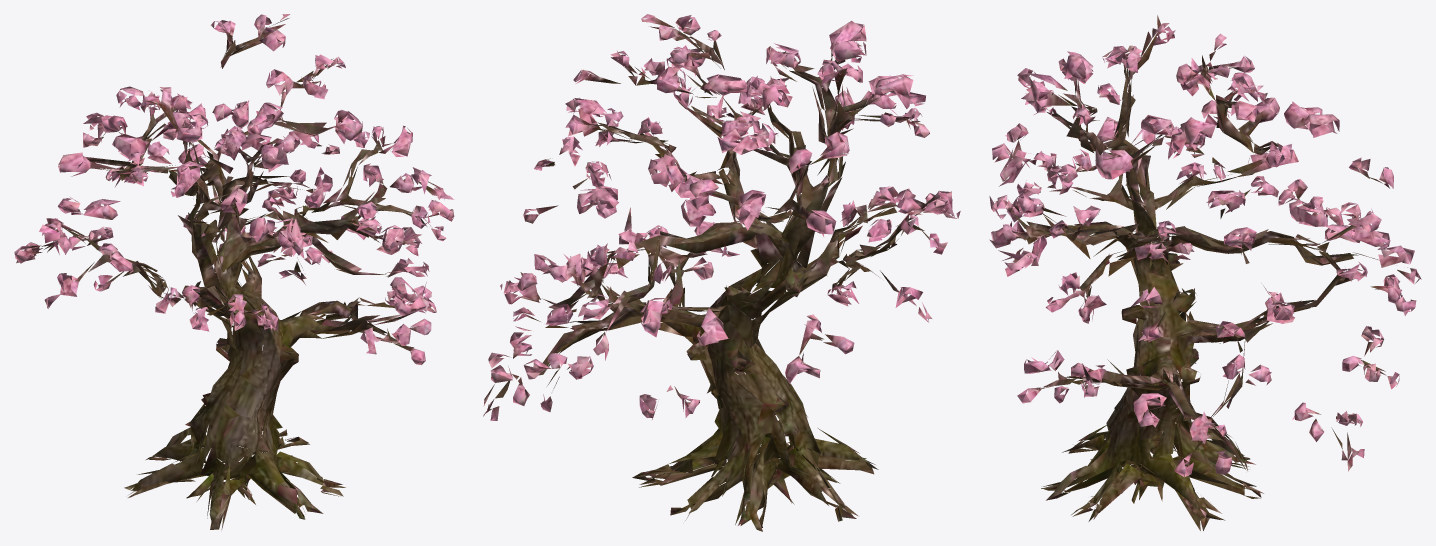
Rendered from cerejeira_lod1.glb.
3 views of the same model, side by side, from view 1: azimuth 30°, elevation 25°; view 2: azimuth 150°, elevation 25°; view 3: azimuth 270°, elevation 25° (orthographic). The views are drawn at different scales.
Parts seen in each view (by area): view 1: cerejeira; view 2: cerejeira; view 3: cerejeira.
Part boxes in pixels (<box>): cerejeira: <box>14,14,454,529</box>; cerejeira: <box>483,14,960,531</box>; cerejeira: <box>989,15,1421,530</box>.
Bounding box in the file's own units: 6.42 × 6.96 × 5.97.
Materials: 1 (1 with a texture image).
